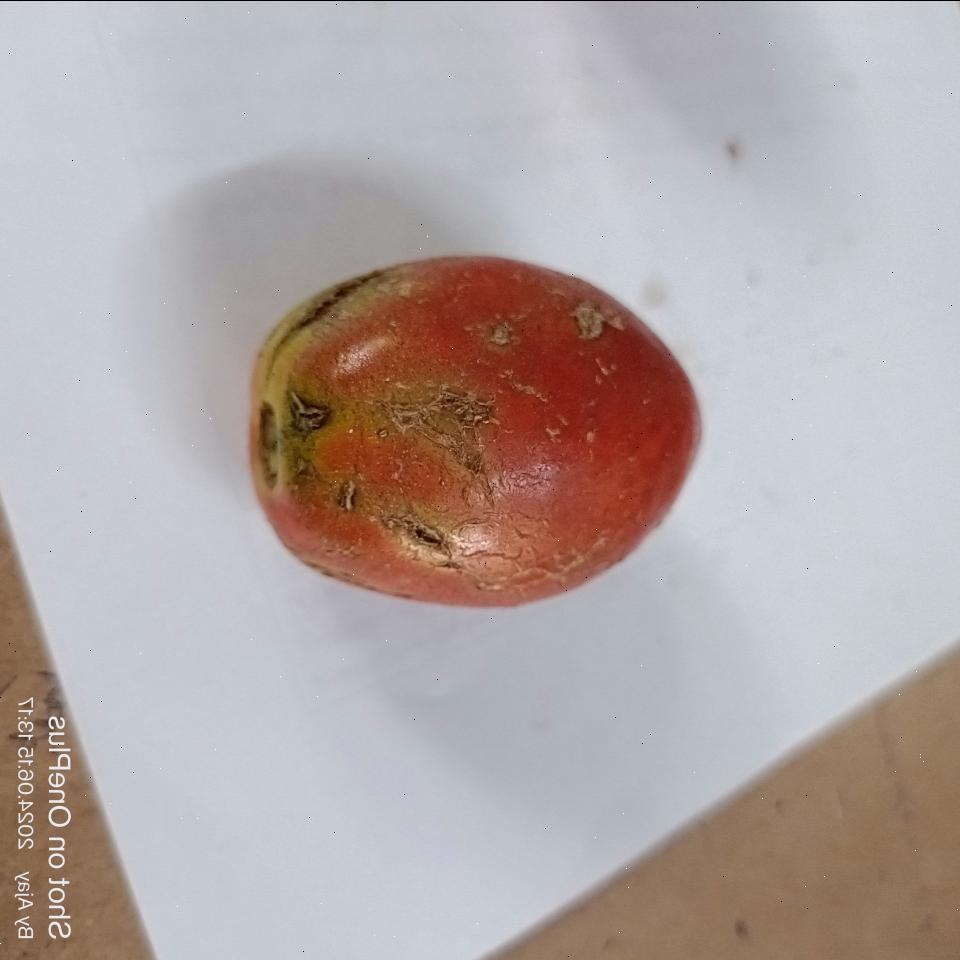Bacterial_Spot: (376, 383, 492, 463), (567, 299, 623, 339), (286, 396, 338, 436), (390, 516, 451, 549), (483, 324, 516, 346), (337, 478, 357, 512), (294, 454, 316, 484)
